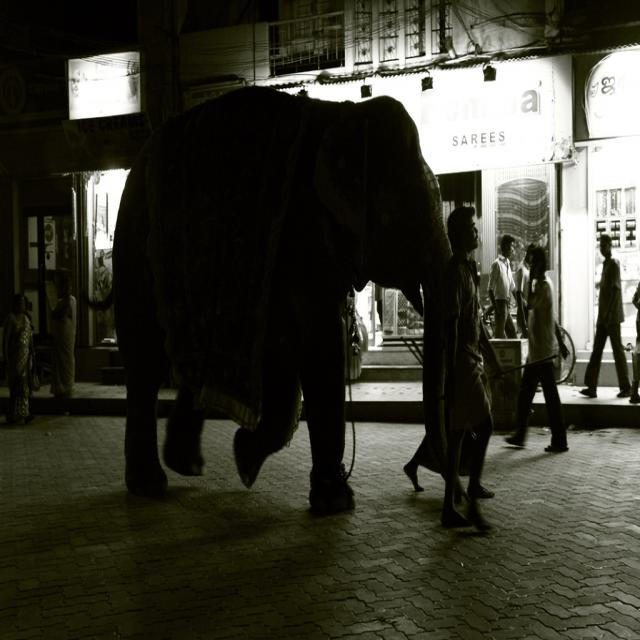elephant: (132, 75, 476, 506)
